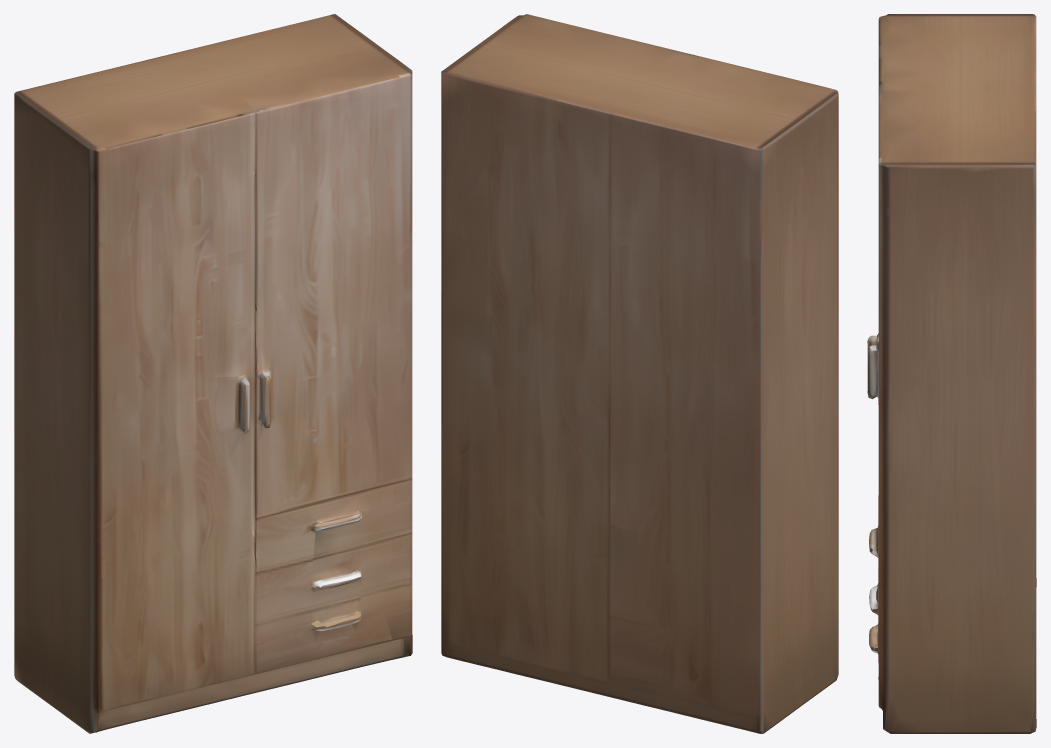
File: Penderie1_3D_textured.glb
3 views of the same model, side by side, from view 1: azimuth 30°, elevation 25°; view 2: azimuth 150°, elevation 25°; view 3: azimuth 270°, elevation 25° (orthographic). The views are drawn at different scales.
Visible parts, largest first — view 1: temp_mesh.ply; view 2: temp_mesh.ply; view 3: temp_mesh.ply.
Part boxes in pixels (left/top/right/bottom): temp_mesh.ply: left=14, top=14, right=412, bottom=733; temp_mesh.ply: left=441, top=14, right=838, bottom=733; temp_mesh.ply: left=867, top=14, right=1036, bottom=733.
Size of the model in its own units: 1.14 by 1.97 by 0.5315.
1 material, 1 textured.
